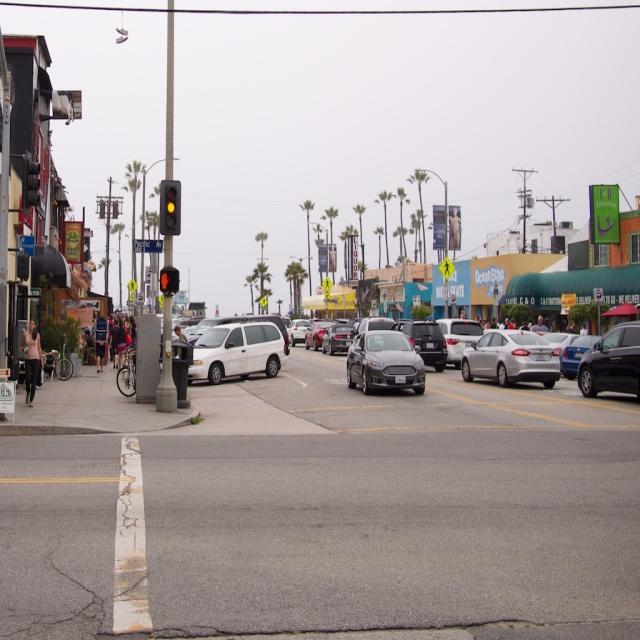off traffic light: (24, 159, 41, 207)
traffic light: (164, 186, 177, 229), (160, 270, 179, 291)
